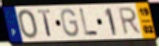1: (104, 7, 118, 36)
G: (60, 7, 80, 38)
L: (78, 8, 100, 37)
O: (17, 8, 39, 40)
R: (118, 6, 144, 37)
T: (37, 9, 53, 39)
